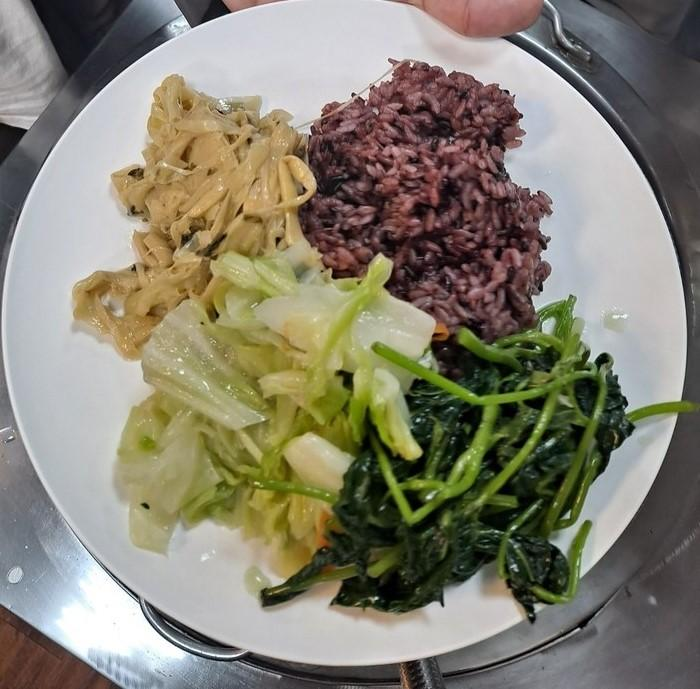big fried chicken leg: (6, 3, 700, 670)
braised fish: (313, 52, 550, 332)
braised fish fillet: (115, 251, 431, 554), (319, 323, 629, 622), (80, 70, 309, 359)
